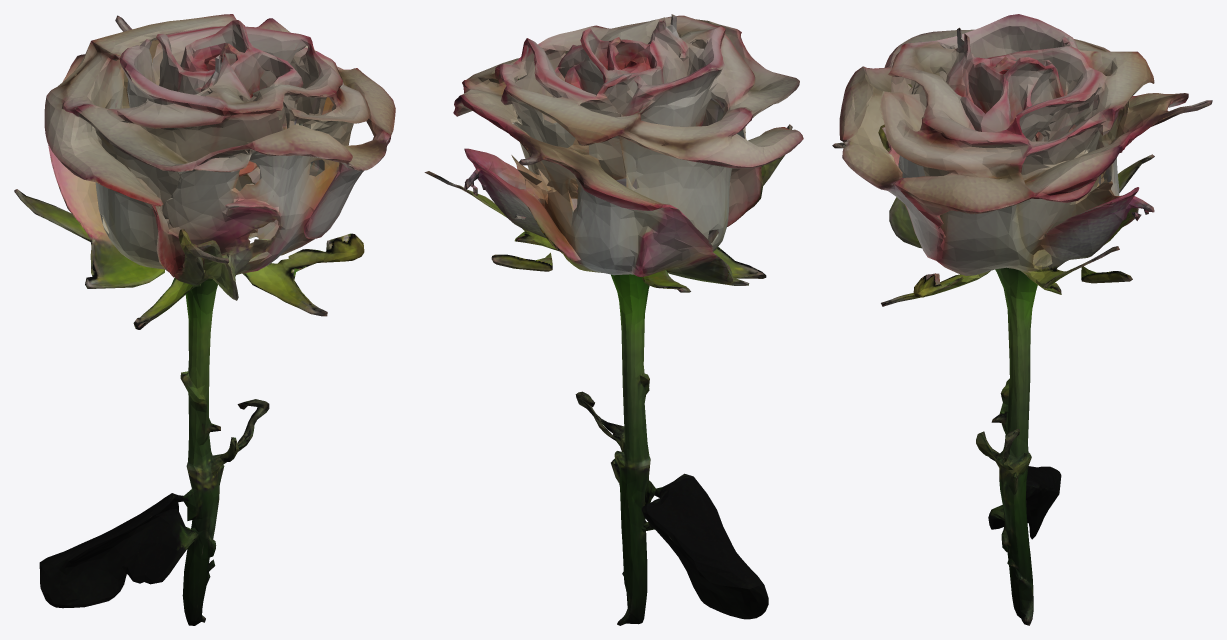
The picture shows the model from 3 angles, left to right: view 1: azimuth 30°, elevation 25°; view 2: azimuth 150°, elevation 25°; view 3: azimuth 270°, elevation 25°; orthographic projection.
Parts seen in each view (by area): view 1: world; view 2: world; view 3: world.
Boxes of the visible parts, box(x1,y1,x2,y2) form: world: box(14, 14, 395, 625); world: box(424, 14, 803, 625); world: box(832, 14, 1212, 625).
Bounding box in the file's own units: 0.5447 × 0.9641 × 0.5648.
Materials: 1 (1 with a texture image).
